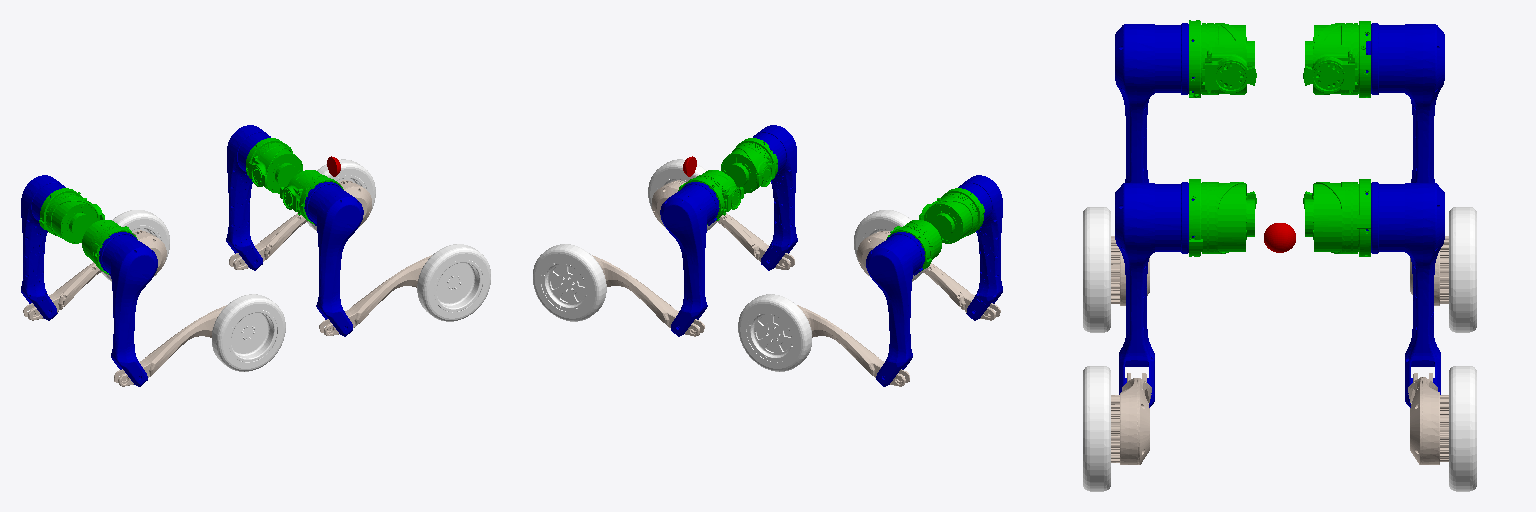
robot.urdf — dynawheel:
<?xml version="1.0" encoding="utf-8"?>
<robot name="dynawheel">
  <material name="black">
    <color rgba="0.0 0.0 0.0 1.0"/>
  </material>
  <material name="blue">
    <color rgba="0.0 0.0 0.8 1.0"/>
  </material>
  <material name="green">
    <color rgba="0.0 0.8 0.0 1.0"/>
  </material>
  <material name="grey">
    <color rgba="0.2 0.2 0.2 1.0"/>
  </material>
  <material name="silver">
    <color rgba="0.913725490196 0.913725490196 0.847058823529 1.0"/>
  </material>
  <material name="orange">
    <color rgba="0.12 0.15 0.2 1.0"/>
  </material>
  <material name="brown">
    <color rgba="0.870588235294 0.811764705882 0.764705882353 1.0"/>
  </material>
  <material name="red">
    <color rgba="0.8 0.0 0.0 1.0"/>
  </material>
  <material name="white">
    <color rgba="1.0 1.0 1.0 1.0"/>
  </material>
  <!-- @@@@@@@@@@@@@@@@@@@@@@@@@@@@@@@@@@@@@@@@@@@@@@@@@@@@@@@ -->
  <link name="Base">
    <inertial>
      <origin xyz="0.0 -0.0 -0.0" rpy="0 0 0" />
      <mass value="35.0" />
      <!-- <inertia ixx="0.236918" ixy="-0.003064" ixz="-0.034650" iyy="1.477981" iyz="-0.003225" izz="1.527714" /> -->
      <inertia ixx="0.236918" ixy="0.0" ixz="0.0" iyy="1.477981" iyz="0.0" izz="1.527714" />
    </inertial>
    <visual>
      <origin xyz="0 0 0" rpy="0 0 0" />
      <geometry>
        <mesh filename="../meshes/base.STL" />
      </geometry>
      <material name="red"/>
    </visual>
    <visual>
      <origin xyz="0.47403 0 0.01878" rpy="0 0 0" />
      <geometry>
        <mesh filename="../meshes/lidar.STL" />
      </geometry>
      <material name="red"/>
    </visual>
    <collision>
      <origin xyz="0 0 0" rpy="0 0 0" />
      <geometry>
        <box size="0.41 0.33 0.20"/>
      </geometry>
    </collision>
    <!-- <collision>
      <origin xyz="0.185 0.105 -0.13" rpy="0 0 0" />
      <geometry>
        <box size="0.025 0.025 0.06"/>
      </geometry>
    </collision> -->
    <!-- <collision>
      <origin xyz="0.185 -0.105 -0.13" rpy="0 0 0" />
      <geometry>
        <box size="0.025 0.025 0.06"/>
      </geometry>
    </collision> -->
    <!-- <collision>
      <origin xyz="-0.185 0.105 -0.13" rpy="0 0 0" />
      <geometry>
        <box size="0.025 0.025 0.06"/>
      </geometry>
    </collision> -->
    <!-- <collision>
      <origin xyz="-0.185 -0.105 -0.13" rpy="0 0 0" />
      <geometry>
        <box size="0.025 0.025 0.06"/>
      </geometry>
    </collision> -->
    <collision>
      <origin xyz="0.456 0 0.024" rpy="0 0 0" />
      <geometry>
        <box size="0.066 0.14 0.17"/>
      </geometry>
    </collision>
  </link>
  <!-- @@@@@@@@@@@@@@@@@@@@@@@@@@@@@@@@@@@@@@@@@@@@@@@@@@@@@@@ -->
  <joint name="LF_HAA" type="revolute">
    <origin xyz="0.346 0.09 0" rpy="0 0 0" />
    <parent link="Base" />
    <child link="LF_hip" />
    <axis xyz="1 0 0" />
    <limit lower="-0.50" upper="0.50" effort="200" velocity="10" />
  </joint>
  <link name="LF_hip">
    <inertial>
      <origin xyz="-0.0037293 -0.0028271 -2.3984E-05" rpy="0 0 0" />
      <mass value="4.0" />
      <inertia ixx="0.005458" ixy="0.0" ixz="0" iyy="0.008605" iyz="0" izz="0.005981" />
    </inertial>
    <visual>
      <origin xyz="0 0 0" rpy="0 0 0" />
      <geometry>
        <mesh filename="../meshes/lf_hip.STL" />
      </geometry>
      <material name="green"/>
    </visual>
    <!-- <collision>
      <origin xyz="0.0 0.0 0.0" rpy="1.57 0 0" />
      <geometry>
        <cylinder radius="0.065" length="0.064"/>
      </geometry>
    </collision> -->
  </link>
  <!-- @@@@@@@@@@@@@@@@@@@@@@@@@@@@@@@@@@@@@@@@@@@@@@@@@@@@@@@ -->
  <joint name="LF_HFE" type="revolute">
    <origin xyz="0.0 0.1733 0.0" rpy="0 0 0" />
    <parent link="LF_hip" />
    <child link="LF_thigh" />
    <axis xyz="0 1 0" />
    <limit lower="-1.43" upper="4.58" effort="200" velocity="10" />
  </joint>
  <link name="LF_thigh">
    <inertial>
      <origin xyz="-0.003963 -0.044529 -0.029278" rpy="0 0 0" />
      <mass value="5.5" />
      <inertia ixx="0.068416" ixy="0.000018" ixz="-0.003286" iyy="0.060125" iyz="0.000136" izz="0.017696" />
    </inertial>
    <visual>
      <origin xyz="0 0 0" rpy="0 0 0" />
      <geometry>
        <mesh filename="../meshes/lf_thigh.STL" />
      </geometry>
      <material name="blue"/>
    </visual>
    <collision>
      <origin xyz="0.0 -0.0 0.0" rpy="1.57 0 0" />
      <geometry>
        <cylinder radius="0.065" length="0.07"/>
      </geometry>
    </collision>
    <collision>
      <origin xyz="-0.035 0.0 -0.144" rpy="0 0 0" />
      <geometry>
        <box size="0.056 0.07 0.31"/>
      </geometry>
    </collision>
    <!-- <collision>
      <origin xyz="-0.016 0.0 -0.325" rpy="0 -0.55 0" />
      <geometry>
        <box size="0.05 0.03 0.12"/>
      </geometry>
    </collision> -->
  </link>
  <!-- @@@@@@@@@@@@@@@@@@@@@@@@@@@@@@@@@@@@@@@@@@@@@@@@@@@@@@@ -->
  <joint name="LF_KFE" type="revolute">
    <origin xyz="0 0.0 -0.350" rpy="0 0 0" />
    <parent link="LF_thigh" />
    <child link="LF_calf" />
    <axis xyz="0 1 0" />
    <limit lower="-2.74" upper="-0.87" effort="200" velocity="10" />
  </joint>
  <link name="LF_calf">
    <inertial>
      <origin xyz="-0.006279 0.013363 -0.251104" rpy="0 0 0" />
      <mass value="4.0" />
      <inertia ixx="0.335338" ixy="0.000054" ixz="0.005346" iyy="0.337205" iyz="0.018379" izz="0.007327" />
    </inertial>
    <visual>
      <origin xyz="0 0 0" rpy="0 0 0" />
      <geometry>
        <mesh filename="../meshes/lf_calf.STL" />
      </geometry>
      <material name="brown"/>
    </visual>
    <collision>
      <origin xyz="0.002 0.0 0.008" rpy="0 0.04 0" />
      <geometry>
        <box size="0.04 0.03 0.10"/>
      </geometry>
    </collision>
    <collision>
      <origin xyz="0.025 0.0 -0.12" rpy="0 -0.29 0" />
      <geometry>
        <box size="0.032 0.03 0.20"/>
      </geometry>
    </collision>
    <collision>
      <origin xyz="0.054 0.0 -0.285" rpy="0 0.01 0" />
      <geometry>
        <box size="0.028 0.03 0.15"/>
      </geometry>
    </collision>
    <collision>
      <origin xyz="0.0 0.0 -0.350" rpy="1.57 0 0" />
      <geometry>
        <cylinder radius="0.068" length="0.03"/>
      </geometry>
    </collision>
  </link>
  <!-- @@@@@@@@@@@@@@@@@@@@@@@@@@@@@@@@@@@@@@@@@@@@@@@@@@@@@@@ -->
  <joint name="LF_WHEEL_MOTOR" type="revolute" dont_collapse="true">
    <origin xyz="0.0 0.0735 -0.35" rpy="0 0 0" />
    <parent link="LF_calf" />
    <child link="LF_wheel" />
    <axis xyz="0 1 0" />
    <limit lower="-99999" upper="99999" effort="75" velocity="32.0" />
  </joint>
  <link name="LF_wheel">
    <inertial>
      <origin xyz="0 -0.000777 0" rpy="0 0 0" />
      <mass value="1.722" />
      <inertia ixx="0.00781" ixy="0" ixz="0" iyy="0.014943" iyz="0" izz="0.007809"/>
    </inertial>
    <visual>
      <origin xyz="0 0 0" rpy="0 0 0" />
      <geometry>
        <mesh filename="../meshes/lf_wheel.STL" />
      </geometry>
      <material name="white"/>
    </visual>
    <collision>
      <origin xyz="0 0 0" rpy="1.57 0 0" />
      <geometry>
        <cylinder radius="0.116" length="0.03"/>
      </geometry>
      <material name="white"/>
    </collision>
  </link>
  <!-- @@@@@@@@@@@@@@@@@@@@@@@@@@@@@@@@@@@@@@@@@@@@@@@@@@@@@@@ -->
  <joint name="LH_HAA" type="revolute">
    <origin xyz="-0.346 0.09 0" rpy="0 0 0" />
    <parent link="Base" />
    <child link="LH_hip" />
    <axis xyz="1 0 0" />
    <limit lower="-0.50" upper="0.50" effort="200" velocity="10" />
  </joint>
  <link name="LH_hip">
    <inertial>
      <origin xyz="0.0037293 -0.0028271 -2.3984E-05" rpy="0 0 0" />
      <mass value="4.0" />
      <inertia ixx="0.005458" ixy="0.0" ixz="0" iyy="0.008605" iyz="0" izz="0.005981" />
    </inertial>
    <visual>
      <origin xyz="0 0 0" rpy="0 3.14 0" />
      <geometry>
        <mesh filename="../meshes/lf_hip.STL" />
      </geometry>
      <material name="green"/>
    </visual>
    <!-- <collision>
      <origin xyz="0.0 0.0 0.0" rpy="1.57 0 0" />
      <geometry>
        <cylinder radius="0.065" length="0.064"/>
      </geometry>
    </collision> -->
  </link>
  <!-- @@@@@@@@@@@@@@@@@@@@@@@@@@@@@@@@@@@@@@@@@@@@@@@@@@@@@@@ -->
  <joint name="LH_HFE" type="revolute">
    <origin xyz="0.0 0.1733 0.0" rpy="0 0 0" />
    <parent link="LH_hip" />
    <child link="LH_thigh" />
    <axis xyz="0 1 0" />
    <limit lower="-1.43" upper="4.58" effort="200" velocity="10" />
  </joint>
  <link name="LH_thigh">
    <inertial>
      <origin xyz="-0.003963 -0.044529 -0.029278" rpy="0 0 0" />
      <mass value="5.5" />
      <inertia ixx="0.068416" ixy="0.000018" ixz="-0.003286" iyy="0.060125" iyz="0.000136" izz="0.017696" />
    </inertial>
    <visual>
      <origin xyz="0 0 0" rpy="0 0 0" />
      <geometry>
        <mesh filename="../meshes/lf_thigh.STL" />
      </geometry>
      <material name="blue"/>
    </visual>
    <collision>
      <origin xyz="0.0 -0.0 0.0" rpy="1.57 0 0" />
      <geometry>
        <cylinder radius="0.065" length="0.07"/>
      </geometry>
    </collision>
    <collision>
      <origin xyz="-0.035 0.0 -0.144" rpy="0 0 0" />
      <geometry>
        <box size="0.056 0.07 0.31"/>
      </geometry>
    </collision>
    <!-- <collision>
      <origin xyz="-0.016 0.0 -0.325" rpy="0 -0.55 0" />
      <geometry>
        <box size="0.05 0.03 0.12"/>
      </geometry>
    </collision> -->
  </link>
  <!-- @@@@@@@@@@@@@@@@@@@@@@@@@@@@@@@@@@@@@@@@@@@@@@@@@@@@@@@ -->
  <joint name="LH_KFE" type="revolute">
    <origin xyz="0 0.0 -0.350" rpy="0 0 0" />
    <parent link="LH_thigh" />
    <child link="LH_calf" />
    <axis xyz="0 1 0" />
    <limit lower="-2.74" upper="-0.87" effort="200" velocity="10" />
  </joint>
  <link name="LH_calf">
    <inertial>
      <origin xyz="-0.006279 0.013363 -0.251104" rpy="0 0 0" />
      <mass value="4.0" />
      <inertia ixx="0.335338" ixy="0.000054" ixz="0.005346" iyy="0.337205" iyz="0.018379" izz="0.007327" />
    </inertial>
    <visual>
      <origin xyz="0 0 0" rpy="0 0 0" />
      <geometry>
        <mesh filename="../meshes/lf_calf.STL" />
      </geometry>
      <material name="brown"/>
    </visual>
    <collision>
      <origin xyz="0.002 0.0 0.008" rpy="0 0.04 0" />
      <geometry>
        <box size="0.04 0.03 0.10"/>
      </geometry>
    </collision>
    <collision>
      <origin xyz="0.025 0.0 -0.12" rpy="0 -0.29 0" />
      <geometry>
        <box size="0.032 0.03 0.20"/>
      </geometry>
    </collision>
    <collision>
      <origin xyz="0.054 0.0 -0.285" rpy="0 0.01 0" />
      <geometry>
        <box size="0.028 0.03 0.15"/>
      </geometry>
    </collision>
    <collision>
      <origin xyz="0.0 0.0 -0.350" rpy="1.57 0 0" />
      <geometry>
        <cylinder radius="0.068" length="0.03"/>
      </geometry>
    </collision>
  </link>
  <!-- @@@@@@@@@@@@@@@@@@@@@@@@@@@@@@@@@@@@@@@@@@@@@@@@@@@@@@@ -->
  <joint name="LH_WHEEL_MOTOR" type="revolute" dont_collapse="true">
    <origin xyz="0.0 0.0735 -0.35" rpy="0 0 0" />
    <parent link="LH_calf" />
    <child link="LH_wheel" />
    <axis xyz="0 1 0" />
    <limit lower="-99999" upper="99999" effort="75" velocity="32.0" />
  </joint>
  <link name="LH_wheel">
    <inertial>
      <origin xyz="0 -0.000777 0" rpy="0 0 0" />
      <mass value="1.722" />
      <inertia ixx="0.00781" ixy="0" ixz="0" iyy="0.014943" iyz="0" izz="0.007809"/>
    </inertial>
    <visual>
      <origin xyz="0 0 0" rpy="0 0 0" />
      <geometry>
        <mesh filename="../meshes/lf_wheel.STL" />
      </geometry>
      <material name="white"/>
    </visual>
    <collision>
      <origin xyz="0 0 0" rpy="1.57 0 0" />
      <geometry>
        <cylinder radius="0.116" length="0.03"/>
      </geometry>
      <material name="white"/>
    </collision>
  </link>
  <!-- @@@@@@@@@@@@@@@@@@@@@@@@@@@@@@@@@@@@@@@@@@@@@@@@@@@@@@@ -->
  <joint name="RF_HAA" type="revolute">
    <origin xyz="0.346 -0.09 0" rpy="0 0 0" />
    <parent link="Base" />
    <child link="RF_hip" />
    <axis xyz="1 0 0" />
    <limit lower="-0.50" upper="0.50" effort="200" velocity="10" />
  </joint>
  <link name="RF_hip">
    <inertial>
      <origin xyz="-0.0037293 0.0028271 -2.3984E-05" rpy="0 0 0" />
      <mass value="4.0" />
      <inertia ixx="0.005458" ixy="0.0" ixz="0" iyy="0.008605" iyz="0" izz="0.005981" />
    </inertial>
    <visual>
      <origin xyz="0 0 0" rpy="3.14 0 0" />
      <geometry>
        <mesh filename="../meshes/lf_hip.STL" />
      </geometry>
      <material name="green"/>
    </visual>
    <!-- <collision>
      <origin xyz="0.0 0.0 0.0" rpy="1.57 0 0" />
      <geometry>
        <cylinder radius="0.065" length="0.064"/>
      </geometry>
    </collision> -->
  </link>
  <!-- @@@@@@@@@@@@@@@@@@@@@@@@@@@@@@@@@@@@@@@@@@@@@@@@@@@@@@@ -->
  <joint name="RF_HFE" type="revolute">
    <origin xyz="0.0 -0.1733 0.0" rpy="0 0 0" />
    <parent link="RF_hip" />
    <child link="RF_thigh" />
    <axis xyz="0 1 0" />
    <limit lower="-1.43" upper="4.58" effort="200" velocity="10" />
  </joint>
  <link name="RF_thigh">
    <inertial>
      <origin xyz="-0.003963 0.044529 -0.029278" rpy="0 0 0" />
      <mass value="5.5" />
      <inertia ixx="0.068416" ixy="-0.000018" ixz="-0.003286" iyy="0.060125" iyz="-0.000136" izz="0.017696" />
    </inertial>
    <visual>
      <origin xyz="0 0 0" rpy="0 0 0" />
      <geometry>
        <mesh filename="../meshes/rf_thigh.STL" />
      </geometry>
      <material name="blue"/>
    </visual>
    <collision>
      <origin xyz="0.0 -0.0 0.0" rpy="1.57 0 0" />
      <geometry>
        <cylinder radius="0.065" length="0.07"/>
      </geometry>
    </collision>
    <collision>
      <origin xyz="-0.035 0.0 -0.144" rpy="0 0 0" />
      <geometry>
        <box size="0.056 0.07 0.31"/>
      </geometry>
    </collision>
    <!-- <collision>
      <origin xyz="-0.016 0.0 -0.325" rpy="0 -0.55 0" />
      <geometry>
        <box size="0.05 0.03 0.12"/>
      </geometry>
    </collision> -->
  </link>
  <!-- @@@@@@@@@@@@@@@@@@@@@@@@@@@@@@@@@@@@@@@@@@@@@@@@@@@@@@@ -->
  <joint name="RF_KFE" type="revolute">
    <origin xyz="0 0.0 -0.350" rpy="0 0 0" />
    <parent link="RF_thigh" />
    <child link="RF_calf" />
    <axis xyz="0 1 0" />
    <limit lower="-2.74" upper="-0.87" effort="200" velocity="10" />
  </joint>
  <link name="RF_calf">
    <inertial>
      <origin xyz="0.006279 -0.013363 -0.251104" rpy="0 0 0" />
      <mass value="4.0" />
      <inertia ixx="0.335338" ixy="-0.000054" ixz="0.005346" iyy="0.337205" iyz="-0.018379" izz="0.007327" />
    </inertial>
    <visual>
      <origin xyz="0 0 0" rpy="0 3.14 3.14" />
      <geometry>
        <mesh filename="../meshes/rf_calf.STL" />
      </geometry>
      <material name="brown"/>
    </visual>
    <collision>
      <origin xyz="0.002 0.0 0.008" rpy="0 0.04 0" />
      <geometry>
        <box size="0.04 0.03 0.10"/>
      </geometry>
    </collision>
    <collision>
      <origin xyz="0.025 0.0 -0.12" rpy="0 -0.29 0" />
      <geometry>
        <box size="0.032 0.03 0.20"/>
      </geometry>
    </collision>
    <collision>
      <origin xyz="0.054 0.0 -0.285" rpy="0 0.01 0" />
      <geometry>
        <box size="0.028 0.03 0.15"/>
      </geometry>
    </collision>
    <collision>
      <origin xyz="0.0 0.0 -0.350" rpy="1.57 0 0" />
      <geometry>
        <cylinder radius="0.068" length="0.03"/>
      </geometry>
    </collision>
  </link>
  <!-- @@@@@@@@@@@@@@@@@@@@@@@@@@@@@@@@@@@@@@@@@@@@@@@@@@@@@@@ -->
  <joint name="RF_WHEEL_MOTOR" type="revolute" dont_collapse="true">
    <origin xyz="0.0 -0.0735 -0.35" rpy="0 0 0" />
    <parent link="RF_calf" />
    <child link="RF_wheel" />
    <axis xyz="0 1 0" />
    <limit lower="-99999" upper="99999" effort="75" velocity="32.0" />
  </joint>
  <link name="RF_wheel">
    <inertial>
      <origin xyz="0 0.000777 0" rpy="0 0 0" />
      <mass value="1.722" />
      <inertia ixx="0.00781" ixy="0" ixz="0" iyy="0.014943" iyz="0" izz="0.007809"/>
    </inertial>
    <visual>
      <origin xyz="0 0 0" rpy="0 0 0" />
      <geometry>
        <mesh filename="../meshes/rf_wheel.STL" />
      </geometry>
      <material name="white"/>
    </visual>
    <collision>
      <origin xyz="0 0 0" rpy="1.57 0 0" />
      <geometry>
        <cylinder radius="0.116" length="0.03"/>
      </geometry>
      <material name="white"/>
    </collision>
  </link>
  <!-- @@@@@@@@@@@@@@@@@@@@@@@@@@@@@@@@@@@@@@@@@@@@@@@@@@@@@@@ -->
  <joint name="RH_HAA" type="revolute">
    <origin xyz="-0.346 -0.09 0" rpy="0 0 0" />
    <parent link="Base" />
    <child link="RH_hip" />
    <axis xyz="1 0 0" />
    <limit lower="-0.50" upper="0.50" effort="200" velocity="10" />
  </joint>
  <link name="RH_hip">
    <inertial>
      <origin xyz="0.0037293 0.0028271 -2.3984E-05" rpy="0 0 0" />
      <mass value="4.0" />
      <inertia ixx="0.005458" ixy="0.0" ixz="0" iyy="0.008605" iyz="0" izz="0.005981" />
    </inertial>
    <visual>
      <origin xyz="0 0 0" rpy="0 0 3.14" />
      <geometry>
        <mesh filename="../meshes/lf_hip.STL" />
      </geometry>
      <material name="green"/>
    </visual>
    <!-- <collision>
      <origin xyz="0.0 0.0 0.0" rpy="1.57 0 0" />
      <geometry>
        <cylinder radius="0.065" length="0.064"/>
      </geometry>
    </collision> -->
  </link>
  <!-- @@@@@@@@@@@@@@@@@@@@@@@@@@@@@@@@@@@@@@@@@@@@@@@@@@@@@@@ -->
  <joint name="RH_HFE" type="revolute">
    <origin xyz="0.0 -0.1733 0.0" rpy="0 0 0" />
    <parent link="RH_hip" />
    <child link="RH_thigh" />
    <axis xyz="0 1 0" />
    <limit lower="-1.43" upper="4.58" effort="200" velocity="10" />
  </joint>
  <link name="RH_thigh">
    <inertial>
      <origin xyz="-0.003963 0.044529 -0.029278" rpy="0 0 0" />
      <mass value="5.5" />
      <inertia ixx="0.068416" ixy="-0.000018" ixz="-0.003286" iyy="0.060125" iyz="-0.000136" izz="0.017696" />
    </inertial>
    <visual>
      <origin xyz="0 0 0" rpy="0 0 0" />
      <geometry>
        <mesh filename="../meshes/rf_thigh.STL" />
      </geometry>
      <material name="blue"/>
    </visual>
    <collision>
      <origin xyz="0.0 -0.0 0.0" rpy="1.57 0 0" />
      <geometry>
        <cylinder radius="0.065" length="0.07"/>
      </geometry>
    </collision>
    <collision>
      <origin xyz="-0.035 0.0 -0.144" rpy="0 0 0" />
      <geometry>
        <box size="0.056 0.07 0.31"/>
      </geometry>
    </collision>
    <!-- <collision>
      <origin xyz="-0.016 0.0 -0.325" rpy="0 -0.55 0" />
      <geometry>
        <box size="0.05 0.03 0.12"/>
      </geometry>
    </collision> -->
  </link>
  <!-- @@@@@@@@@@@@@@@@@@@@@@@@@@@@@@@@@@@@@@@@@@@@@@@@@@@@@@@ -->
  <joint name="RH_KFE" type="revolute">
    <origin xyz="0 0.0 -0.350" rpy="0 0 0" />
    <parent link="RH_thigh" />
    <child link="RH_calf" />
    <axis xyz="0 1 0" />
    <limit lower="-2.74" upper="-0.87" effort="200" velocity="10" />
  </joint>
  <link name="RH_calf">
    <inertial>
      <origin xyz="0.006279 -0.013363 -0.251104" rpy="0 0 0" />
      <mass value="4.0" />
      <inertia ixx="0.335338" ixy="-0.000054" ixz="0.005346" iyy="0.337205" iyz="-0.018379" izz="0.007327" />
    </inertial>
    <visual>
      <origin xyz="0 0 0" rpy="0 3.14 3.14" />
      <geometry>
        <mesh filename="../meshes/rf_calf.STL" />
      </geometry>
      <material name="brown"/>
    </visual>
    <collision>
      <origin xyz="0.002 0.0 0.008" rpy="0 0.04 0" />
      <geometry>
        <box size="0.04 0.03 0.10"/>
      </geometry>
    </collision>
    <collision>
      <origin xyz="0.025 0.0 -0.12" rpy="0 -0.29 0" />
      <geometry>
        <box size="0.032 0.03 0.20"/>
      </geometry>
    </collision>
    <collision>
      <origin xyz="0.054 0.0 -0.285" rpy="0 0.01 0" />
      <geometry>
        <box size="0.028 0.03 0.15"/>
      </geometry>
    </collision>
    <collision>
      <origin xyz="0.0 0.0 -0.350" rpy="1.57 0 0" />
      <geometry>
        <cylinder radius="0.068" length="0.03"/>
      </geometry>
    </collision>
  </link>
  <!-- @@@@@@@@@@@@@@@@@@@@@@@@@@@@@@@@@@@@@@@@@@@@@@@@@@@@@@@ -->
  <joint name="RH_WHEEL_MOTOR" type="revolute" dont_collapse="true">
    <origin xyz="0.0 -0.0735 -0.35" rpy="0 0 0" />
    <parent link="RH_calf" />
    <child link="RH_wheel" />
    <axis xyz="0 1 0" />
    <limit lower="-99999" upper="99999" effort="75" velocity="32.0" />
  </joint>
  <link name="RH_wheel">
    <inertial>
      <origin xyz="0 0.000777 0" rpy="0 0 0" />
      <mass value="1.722" />
      <inertia ixx="0.00781" ixy="0" ixz="0" iyy="0.014943" iyz="0" izz="0.007809"/>
    </inertial>
    <visual>
      <origin xyz="0 0 0" rpy="0 0 0" />
      <geometry>
        <mesh filename="../meshes/rf_wheel.STL" />

      </geometry>
      <material name="white"/>
    </visual>
        <collision>
      <origin xyz="0 0 0" rpy="1.57 0 0" />
      <geometry>
        <cylinder radius="0.116" length="0.03"/>
      </geometry>
      <material name="white"/>
    </collision>
  </link>
  <!-- @@@@@@@@@@@@@@@@@@@@@@@@@@@@@@@@@@@@@@@@@@@@@@@@@@@@@@@ -->
</robot>

--- Render facts (derived) ---
The picture shows the robot from 3 angles, left to right: view 1: azimuth 30°, elevation 25°; view 2: azimuth 150°, elevation 25°; view 3: azimuth 270°, elevation 25°; orthographic projection.
Robot: dynawheel — 17 links, 16 joints (16 revolute); root link Base; default pose: joints at zero except 4 at the middle of their limits (LF_KFE = -1.8, LH_KFE = -1.8, RF_KFE = -1.8, RH_KFE = -1.8).
Links seen in each view (by area): view 1: RH_thigh, RF_thigh, RH_wheel, RF_wheel, LF_thigh, LH_thigh, LH_hip, LF_hip, RH_calf, RF_calf, LH_calf, LF_calf (+4 smaller); view 2: LH_thigh, LF_thigh, LH_wheel, LF_wheel, RF_thigh, RH_thigh, RH_hip, RF_hip, LF_calf, LH_calf, RH_calf, RF_calf (+4 smaller); view 3: RF_thigh, LF_thigh, LH_thigh, RH_thigh, LF_hip, RF_hip, RH_hip, LH_hip, LF_wheel, RF_wheel, LH_wheel, RH_wheel (+5 smaller).
Boxes of the visible links, x1,y1,x2,y2 form: RH_thigh: [99, 232, 157, 386]; RF_thigh: [304, 182, 363, 336]; RH_wheel: [212, 294, 285, 371]; RF_wheel: [417, 244, 490, 321]; LF_thigh: [226, 125, 270, 270]; LH_thigh: [21, 175, 65, 320]; LH_hip: [39, 188, 104, 243]; LF_hip: [246, 138, 302, 193]; RH_calf: [114, 305, 226, 386]; RF_calf: [319, 255, 431, 335]; LH_calf: [23, 230, 166, 320]; LF_calf: [229, 180, 371, 269]; LH_thigh: [866, 232, 924, 386]; LF_thigh: [660, 182, 719, 336]; LH_wheel: [738, 294, 811, 371]; LF_wheel: [533, 244, 606, 321]; RF_thigh: [753, 125, 797, 270]; RH_thigh: [958, 175, 1002, 320]; RH_hip: [919, 188, 984, 243]; RF_hip: [721, 138, 777, 193]; LF_calf: [592, 255, 704, 336]; LH_calf: [797, 305, 909, 386]; RH_calf: [857, 231, 1000, 320]; RF_calf: [652, 180, 794, 269]; RF_thigh: [1115, 182, 1194, 407]; LF_thigh: [1366, 182, 1444, 407]; LH_thigh: [1366, 23, 1444, 182]; RH_thigh: [1115, 23, 1194, 182]; LF_hip: [1303, 179, 1370, 256]; RF_hip: [1189, 179, 1256, 256]; RH_hip: [1189, 20, 1256, 97]; LH_hip: [1303, 21, 1370, 97]; LF_wheel: [1449, 366, 1476, 491]; RF_wheel: [1083, 366, 1110, 491]; LH_wheel: [1449, 207, 1476, 332]; RH_wheel: [1083, 207, 1110, 332].
Bounding box of the posed robot: 1.22 × 0.7256 × 0.456 m (x, y, z).
17 mesh visuals loaded from 9 distinct referenced files (8 binary STL); not drawn: 1 (reference not matched to a file when rendering).
